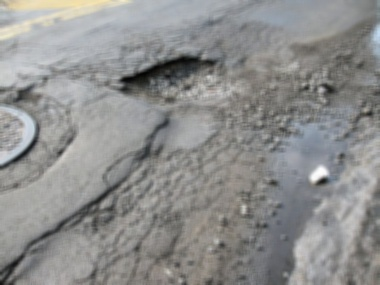pothole: (109, 50, 238, 107)
